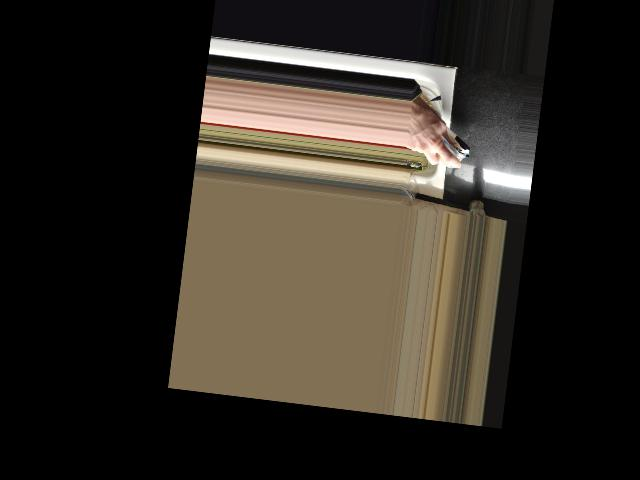cheese: (407, 113, 476, 167)
